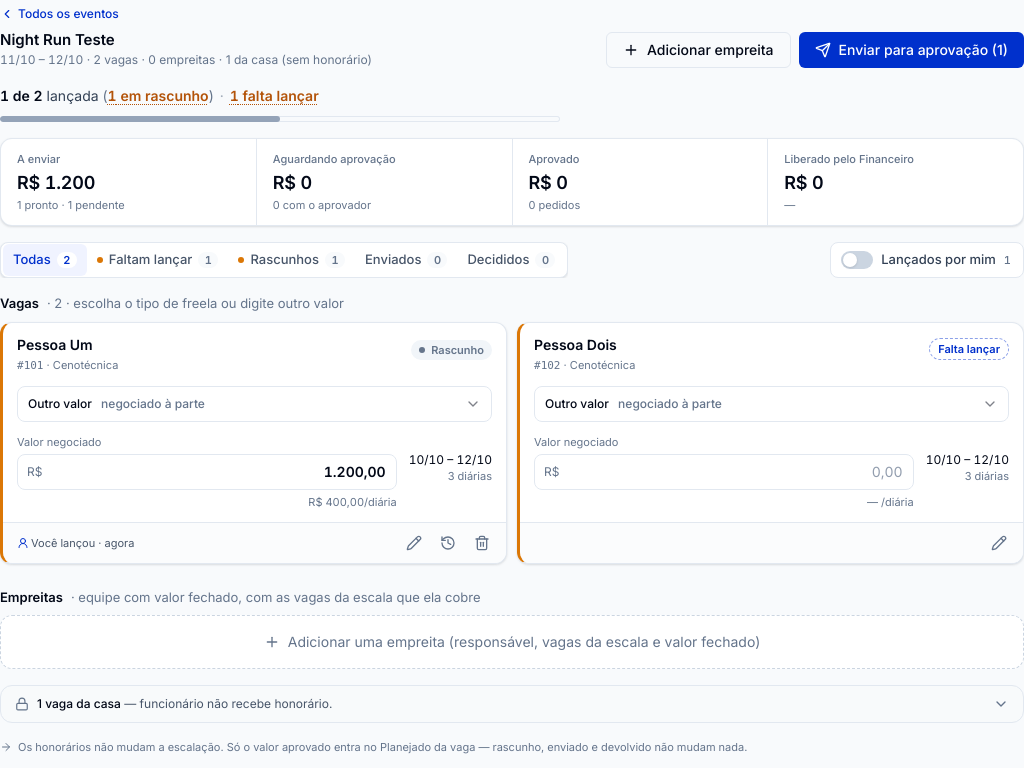
Test: Honorários — empreita que agrupa vagas › vaga já numa empreita ou com pedido enviado: o checkbox fica travado com o motivo
The width and height of the screenshot is (1024, 768).
Click the button "Adicionar empreita".
click(698, 50)  # box top-left (606, 32), bottom-right (791, 68)
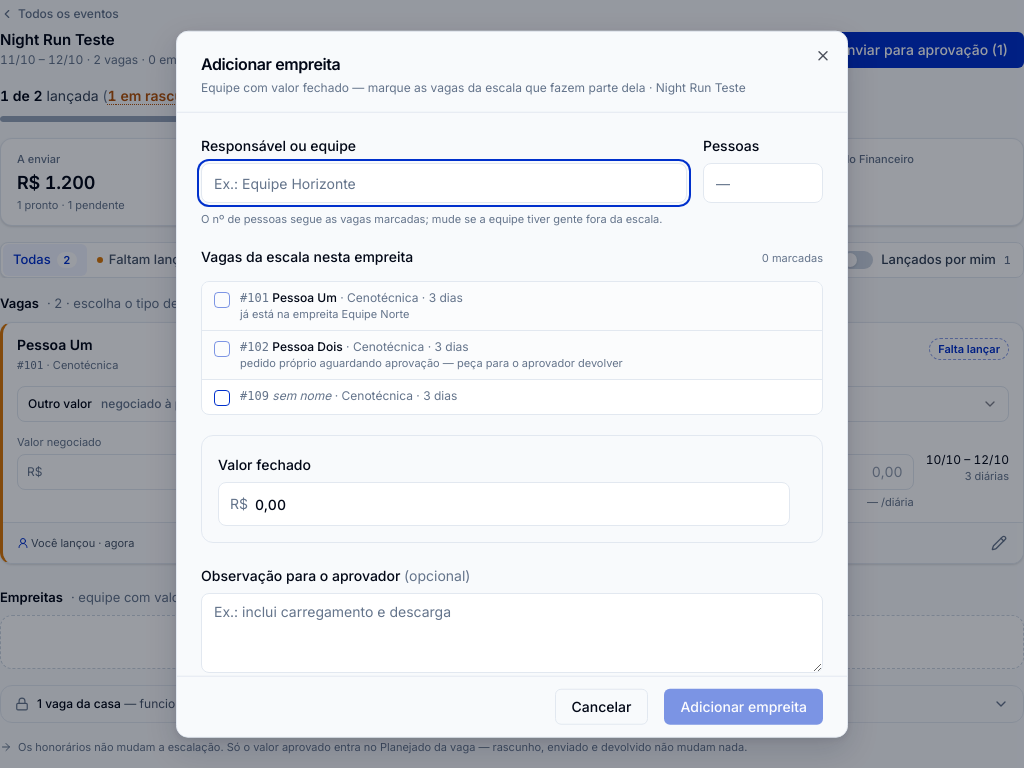
Expected: the 1st checkbox named "#101" is disabled, top-left (214, 292), bottom-right (230, 308)
Expected: the list with test id "hon-vagas" shows "já está na empreita Equipe Norte", top-left (240, 307), bottom-right (410, 321)
Expected: the 2nd checkbox named "#102" is disabled, top-left (214, 341), bottom-right (230, 357)
